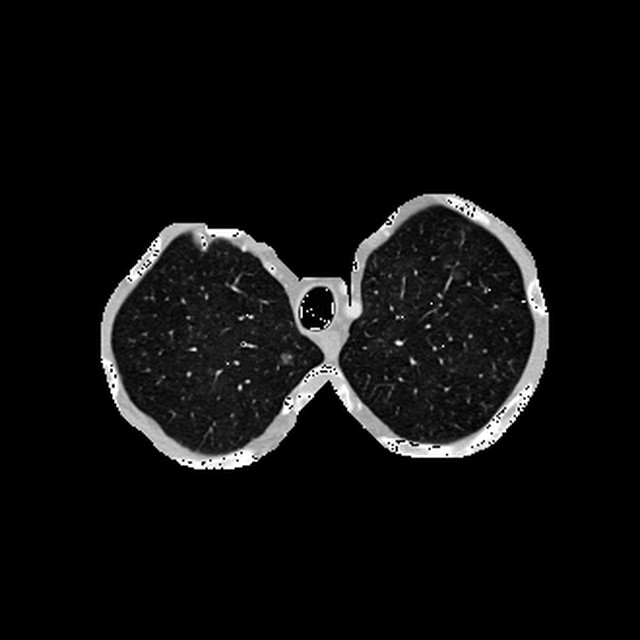PN: (279, 353, 291, 365)
